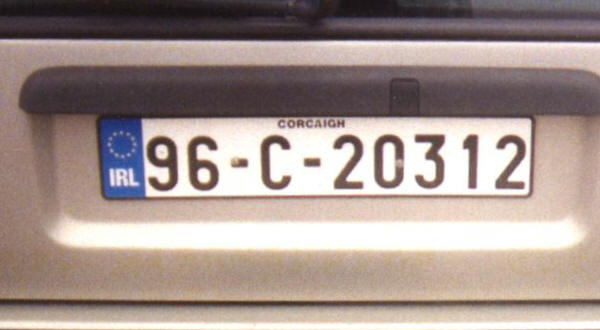license_plate: (97, 115, 535, 201)
